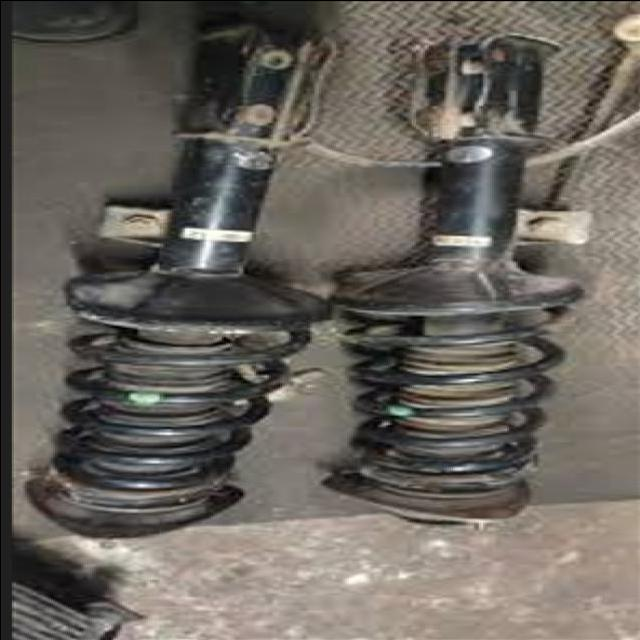shock absorber: (21, 13, 332, 539), (320, 29, 587, 528)
